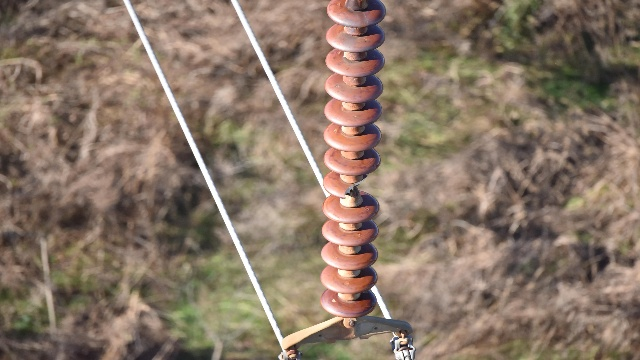broken_local: (341, 170, 370, 199)
insulator_unspecified: (320, 0, 387, 318)
